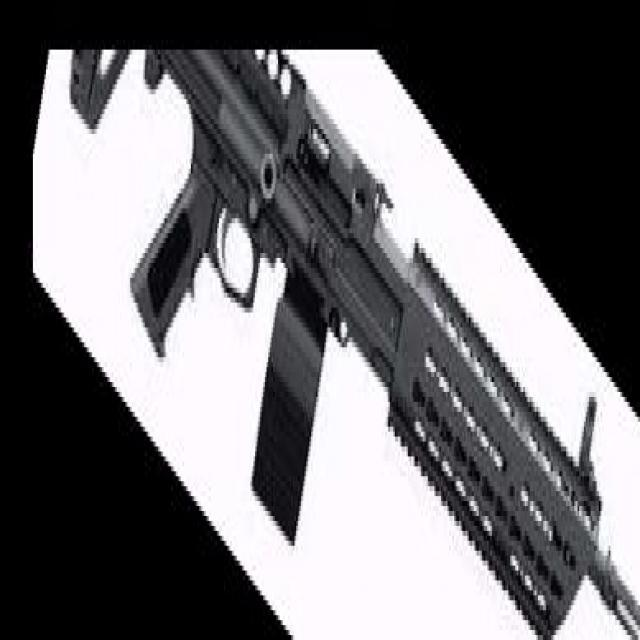weapon: (68, 52, 640, 640)
